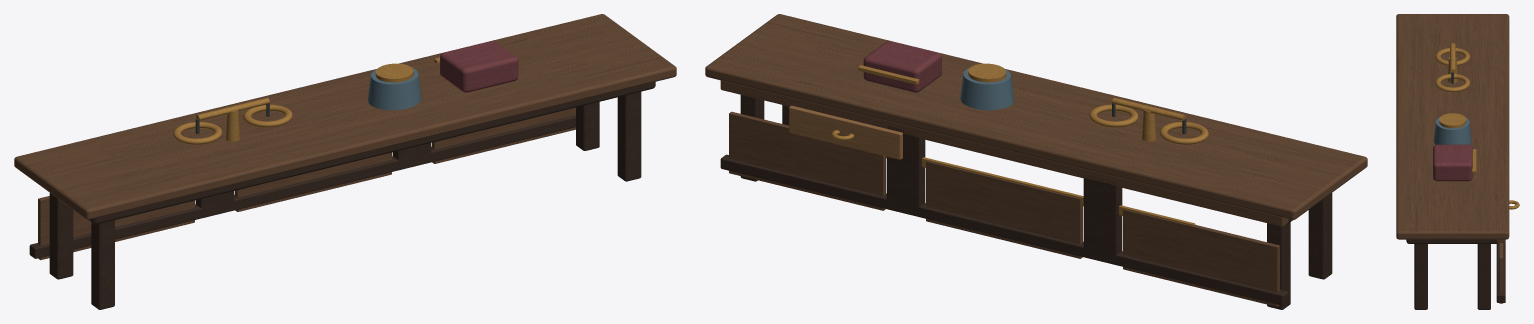
Rendered from shop_counter.glb.
3 views of the same model, side by side, from view 1: azimuth 30°, elevation 25°; view 2: azimuth 150°, elevation 25°; view 3: azimuth 270°, elevation 25° (orthographic). The views are drawn at different scales.
Parts seen in each view (by area): view 1: shop_counter; view 2: shop_counter; view 3: shop_counter.
Boxes of the visible parts, bbox=[...] form: shop_counter: bbox=[14, 14, 676, 309]; shop_counter: bbox=[705, 14, 1367, 309]; shop_counter: bbox=[1396, 14, 1519, 309].
Size of the model in its own units: 4.2 by 1 by 1.
Materials: 1 (1 with a texture image).
